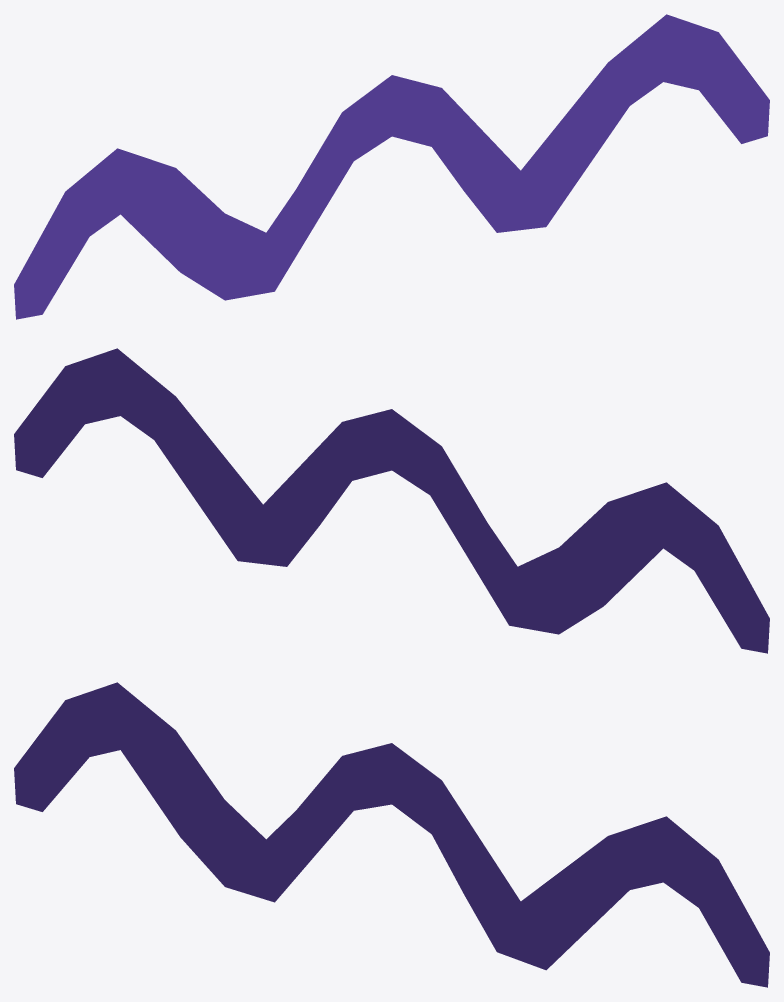
File: neonCavePaintingSquigglePurple.glb
3 renders of one model, top to bottom at view 1: azimuth 30°, elevation 25°; view 2: azimuth 150°, elevation 25°; view 3: azimuth 330°, elevation 25°, orthographic.
Visible parts, largest first — view 1: neonCavePaintingSquigglePurple; view 2: neonCavePaintingSquigglePurple; view 3: neonCavePaintingSquigglePurple.
Part boxes in pixels (x1=…): neonCavePaintingSquigglePurple: x1=14, y1=14, x2=769, y2=319; neonCavePaintingSquigglePurple: x1=14, y1=348, x2=769, y2=653; neonCavePaintingSquigglePurple: x1=14, y1=682, x2=769, y2=987.
Size of the model in its own units: 0.2954 by 0.0709 by 3.81e-06.
